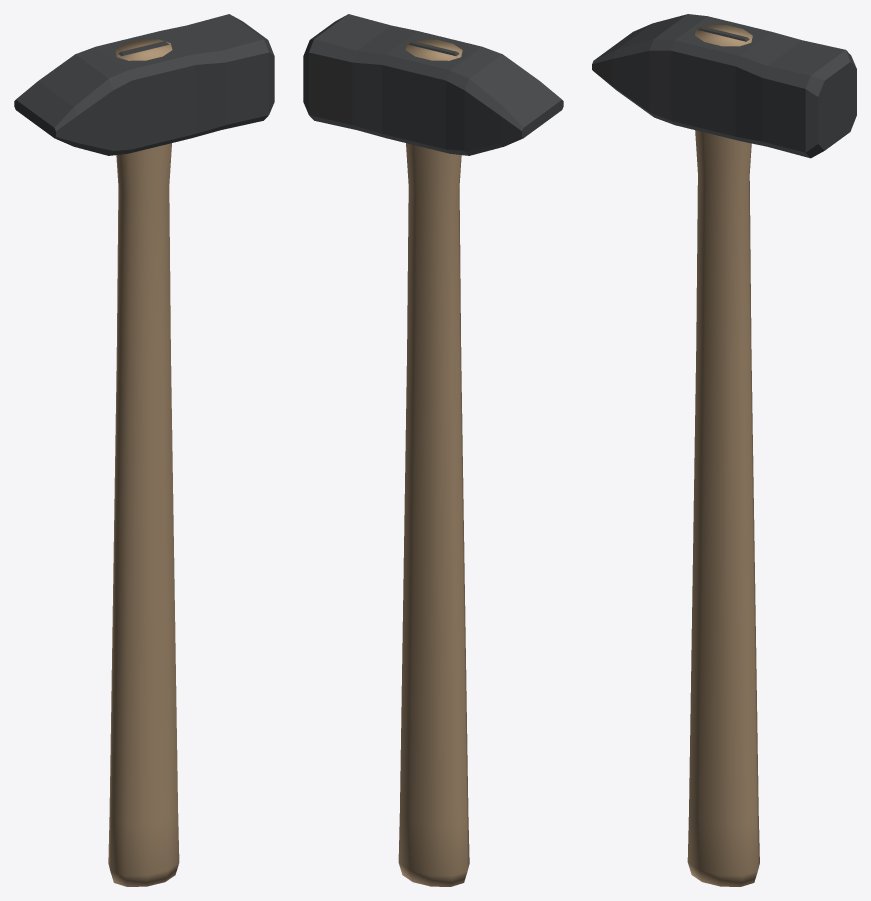
Rendered from smith_hammer.glb.
The picture shows the model from 3 angles, left to right: view 1: azimuth 30°, elevation 25°; view 2: azimuth 150°, elevation 25°; view 3: azimuth 330°, elevation 25°; orthographic projection.
Visible parts, largest first — view 1: smith_hammer; view 2: smith_hammer; view 3: smith_hammer.
Part boxes in pixels (box(x1,y1,x2,y2)): smith_hammer: box(14, 14, 274, 886); smith_hammer: box(303, 14, 563, 886); smith_hammer: box(592, 14, 856, 886).
Bounding box in the file's own units: 0.1105 × 0.3965 × 0.039.
